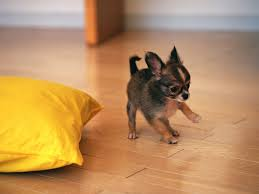chihuahua: (106, 32, 201, 154)
